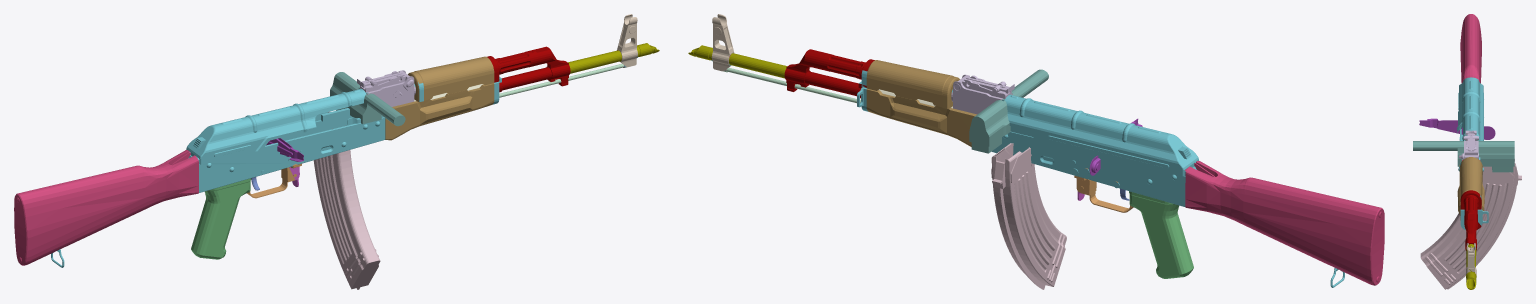
Rendered from full_21.glb.
3 views of the same model, side by side, from view 1: azimuth 30°, elevation 25°; view 2: azimuth 150°, elevation 25°; view 3: azimuth 270°, elevation 25° (orthographic). The views are drawn at different scales.
Parts seen in each view (by area): view 1: geometry_0; view 2: geometry_0; view 3: geometry_0.
Boxes of the visible parts, left/top/right/bottom form: geometry_0: left=14, top=14, right=659, bottom=289; geometry_0: left=688, top=14, right=1384, bottom=289; geometry_0: left=1413, top=14, right=1521, bottom=289.
Size of the model in its own units: 0.9473 by 0.2752 by 0.1641.
